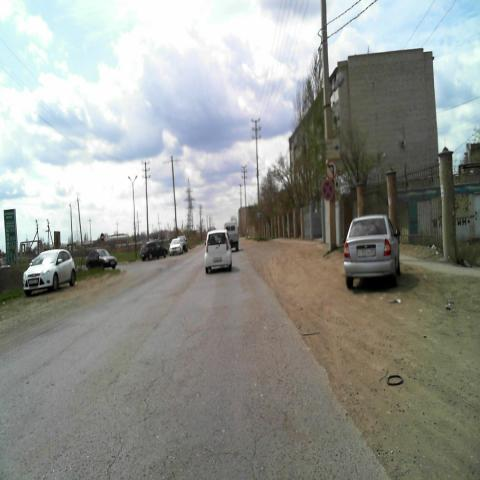3_18_2: (326, 161, 336, 178)
8_2_2: (334, 178, 340, 200)
